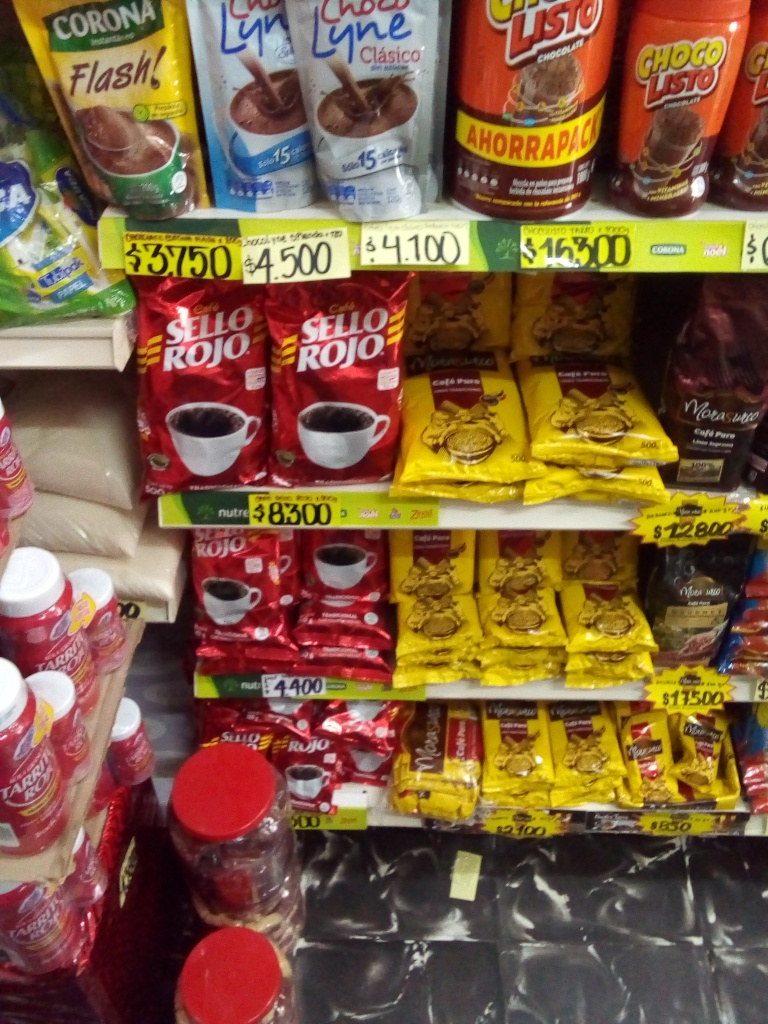COL0170103TRR00100: (448, 3, 617, 230)
